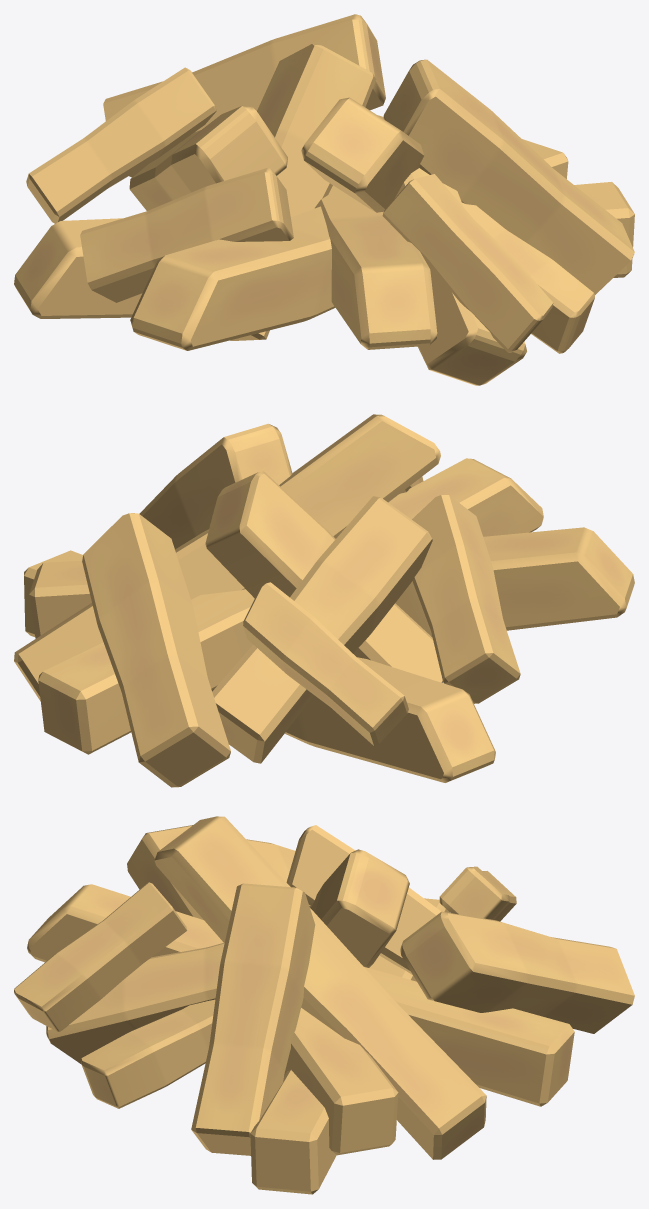
Rendered from rawfries.fbx.
The picture shows the model from 3 angles, top to bottom: view 1: azimuth 30°, elevation 25°; view 2: azimuth 150°, elevation 25°; view 3: azimuth 270°, elevation 25°; orthographic projection. The views are drawn at different scales.
Visible parts, largest first — view 1: frypileraw; view 2: frypileraw; view 3: frypileraw.
Boxes of the visible parts, x1=… form: frypileraw: x1=14, y1=14, x2=634, y2=385; frypileraw: x1=14, y1=414, x2=634, y2=787; frypileraw: x1=14, y1=816, x2=634, y2=1194.
Bounding box in the file's own units: 5.95 × 2.8 × 6.39.
1 material, 1 textured.
